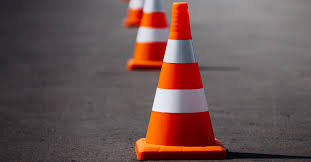cones: (133, 1, 234, 160)
